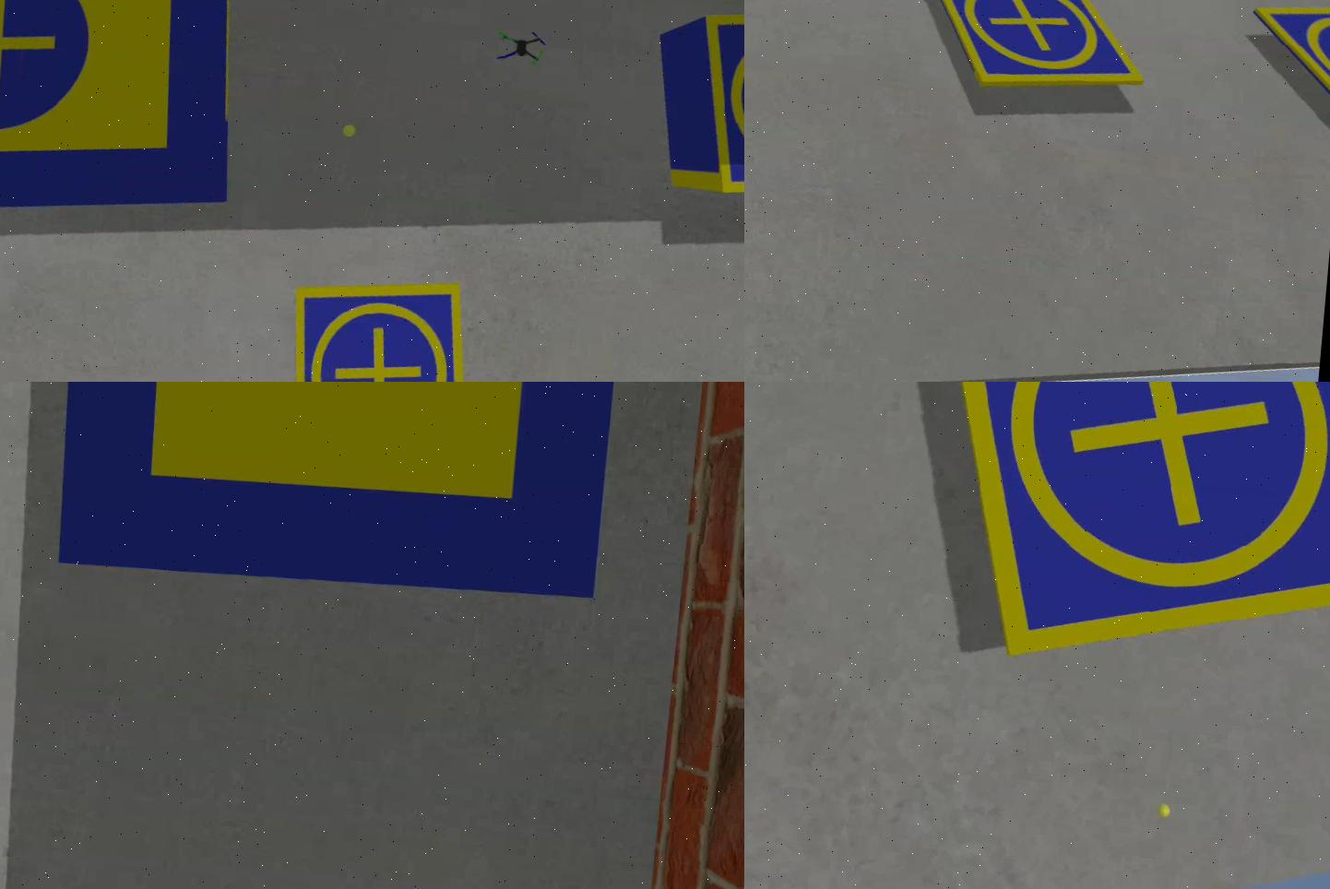large_base: (48, 383, 623, 616), (1, 1, 259, 261)
small_base: (903, 383, 1330, 696), (923, 1, 1155, 99), (279, 276, 486, 383), (686, 1, 745, 209), (1244, 1, 1330, 105)
